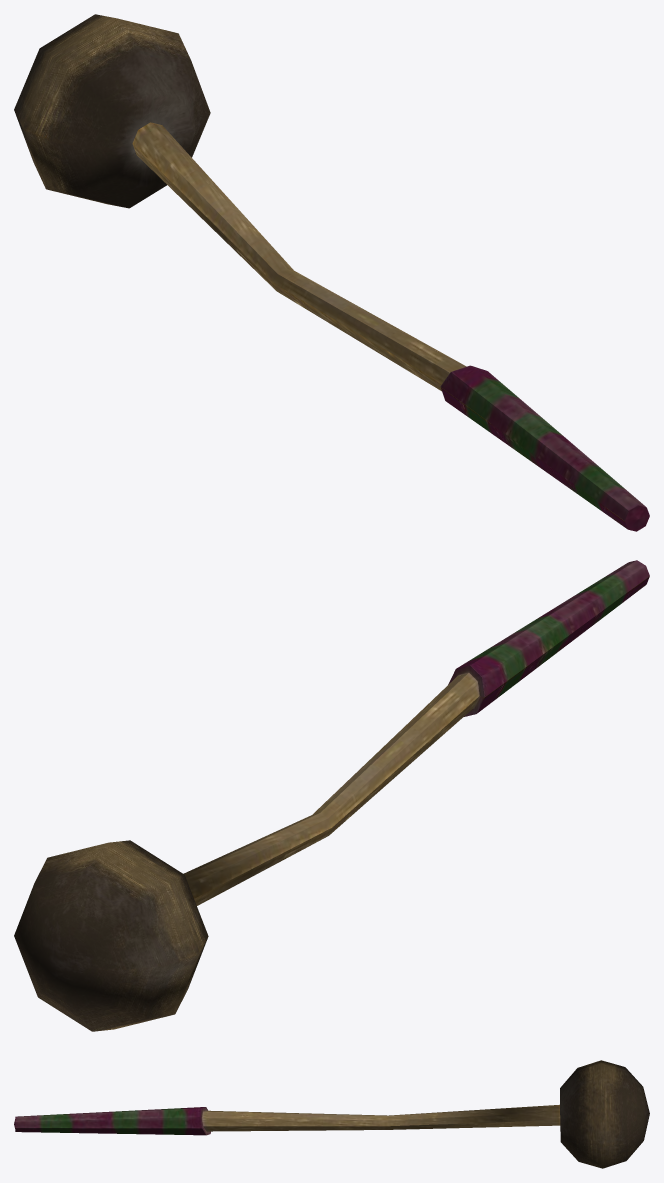
The model's file is mallet.fbx.
3 views of the same model, one above another, from view 1: azimuth 30°, elevation 25°; view 2: azimuth 150°, elevation 25°; view 3: azimuth 270°, elevation 25° (orthographic). The views are drawn at different scales.
Parts seen in each view (by area): view 1: defaultMaterial.001; view 2: defaultMaterial.001; view 3: defaultMaterial.001.
Part boxes in pixels (bbox=[...]): defaultMaterial.001: bbox=[14, 14, 649, 531]; defaultMaterial.001: bbox=[14, 560, 649, 1031]; defaultMaterial.001: bbox=[14, 1060, 649, 1168].
Size of the model in its own units: 30.18 by 30.17 by 169.
